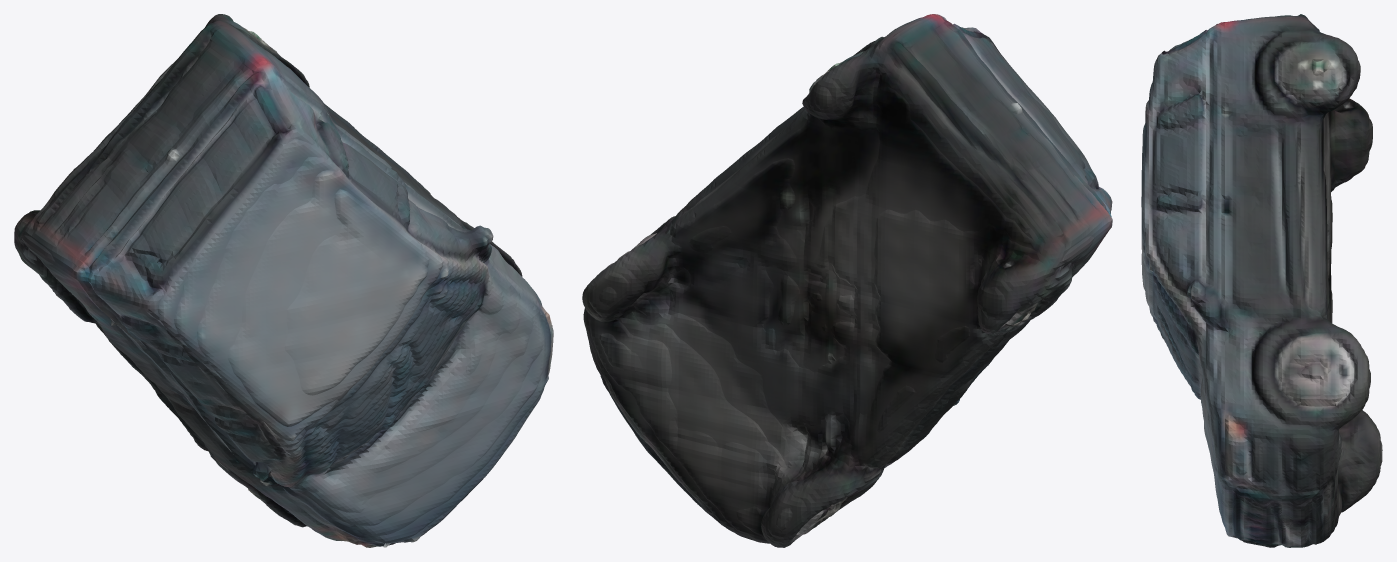
The picture shows the model from 3 angles, left to right: view 1: azimuth 30°, elevation 25°; view 2: azimuth 150°, elevation 25°; view 3: azimuth 270°, elevation 25°; orthographic projection. The views are drawn at different scales.
Parts seen in each view (by area): view 1: world; view 2: world; view 3: world.
Boxes of the visible parts, x1=… form: world: x1=14, y1=14, x2=553, y2=547; world: x1=582, y1=14, x2=1112, y2=547; world: x1=1141, y1=14, x2=1382, y2=547.
Size of the model in its own units: 0.8825 by 0.9236 by 0.4327.
